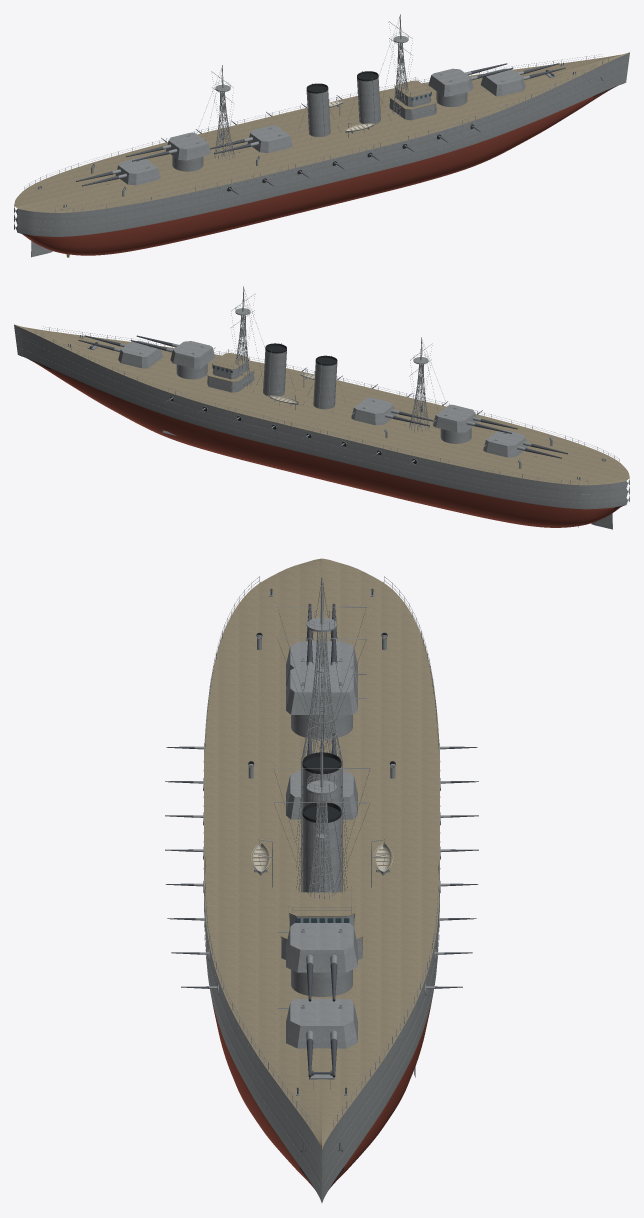
Rendered from new_york.glb.
3 renders of one model, top to bottom at view 1: azimuth 30°, elevation 25°; view 2: azimuth 150°, elevation 25°; view 3: azimuth 270°, elevation 25°, orthographic. The views are drawn at different scales.
Visible parts, largest first — view 1: New York class; view 2: New York class; view 3: New York class.
Part boxes in pixels (x1=…): New York class: x1=14, y1=14, x2=629, y2=257; New York class: x1=14, y1=286, x2=629, y2=529; New York class: x1=165, y1=558, x2=478, y2=1202.
Bounding box in the file's own units: 175 × 42.22 × 38.68.
8 materials, 2 textured.
